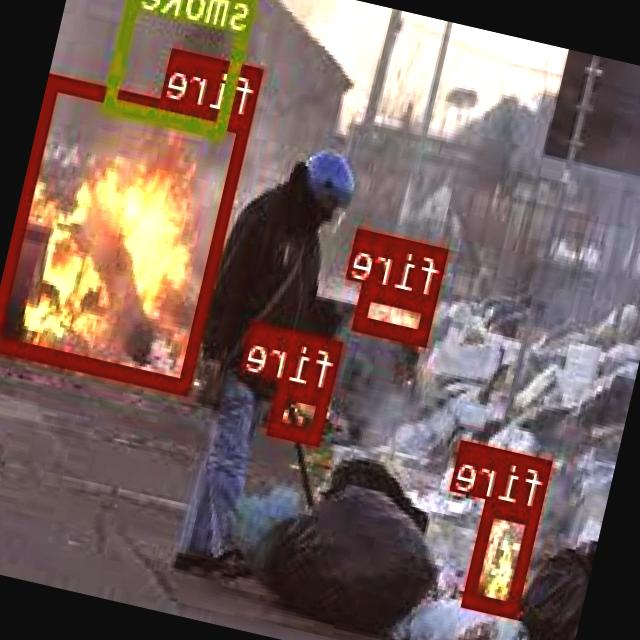fire: (0, 73, 252, 390), (464, 496, 542, 615), (354, 282, 440, 345), (271, 381, 334, 442)
smoke: (105, 0, 261, 137)
